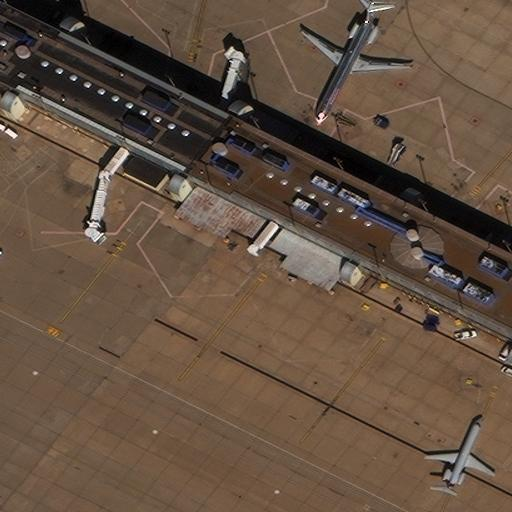Medium Civil Transport: (302, 1, 411, 121), (425, 414, 495, 494)
